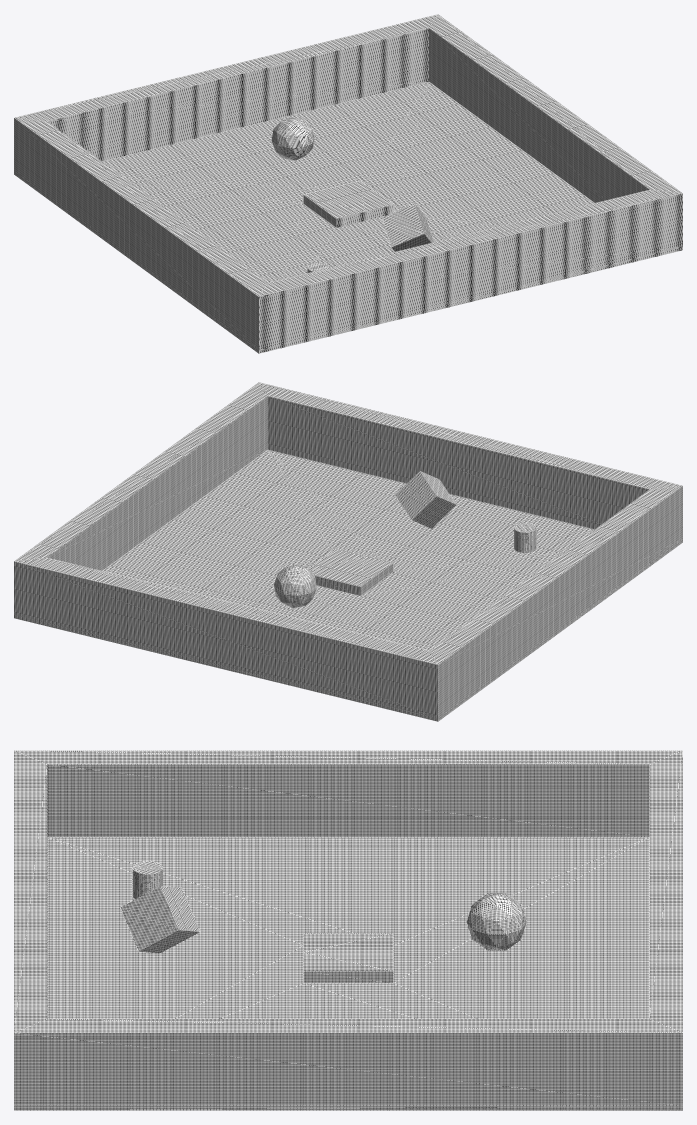
3 renders of one model, top to bottom at view 1: azimuth 30°, elevation 25°; view 2: azimuth 150°, elevation 25°; view 3: azimuth 270°, elevation 25°, orthographic. The views are drawn at different scales.
Visible parts, largest first — view 1: Cube_Cube_t_concrete_placeholder; view 2: Cube_Cube_t_concrete_placeholder; view 3: Cube_Cube_t_concrete_placeholder.
Boxes of the visible parts, <box> form: Cube_Cube_t_concrete_placeholder: <box>14,14,682,353</box>; Cube_Cube_t_concrete_placeholder: <box>14,382,682,721</box>; Cube_Cube_t_concrete_placeholder: <box>14,750,682,1110</box>.
Size of the model in its own units: 50 by 6.73 by 50.
